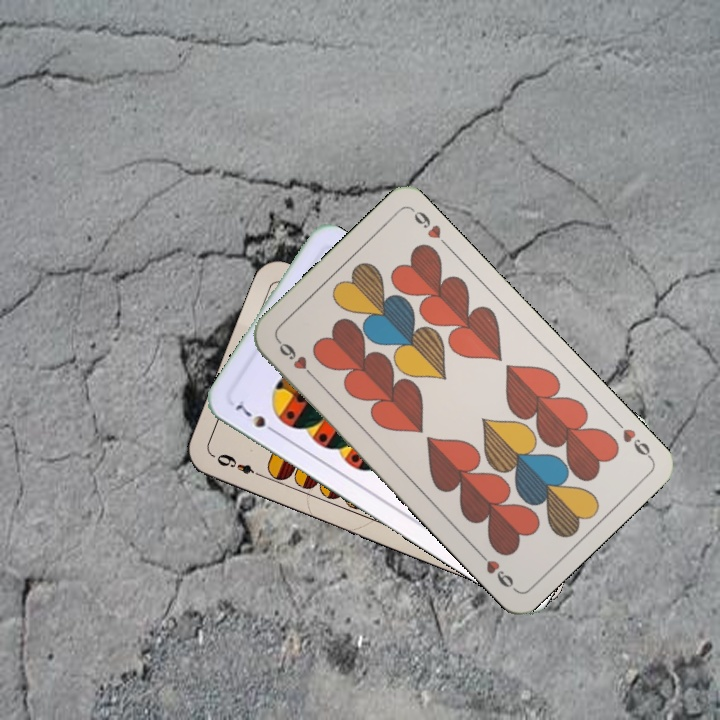E9: (212, 449, 266, 481)
H9: (609, 414, 654, 462), (273, 335, 318, 382)
S7: (231, 396, 281, 437)
